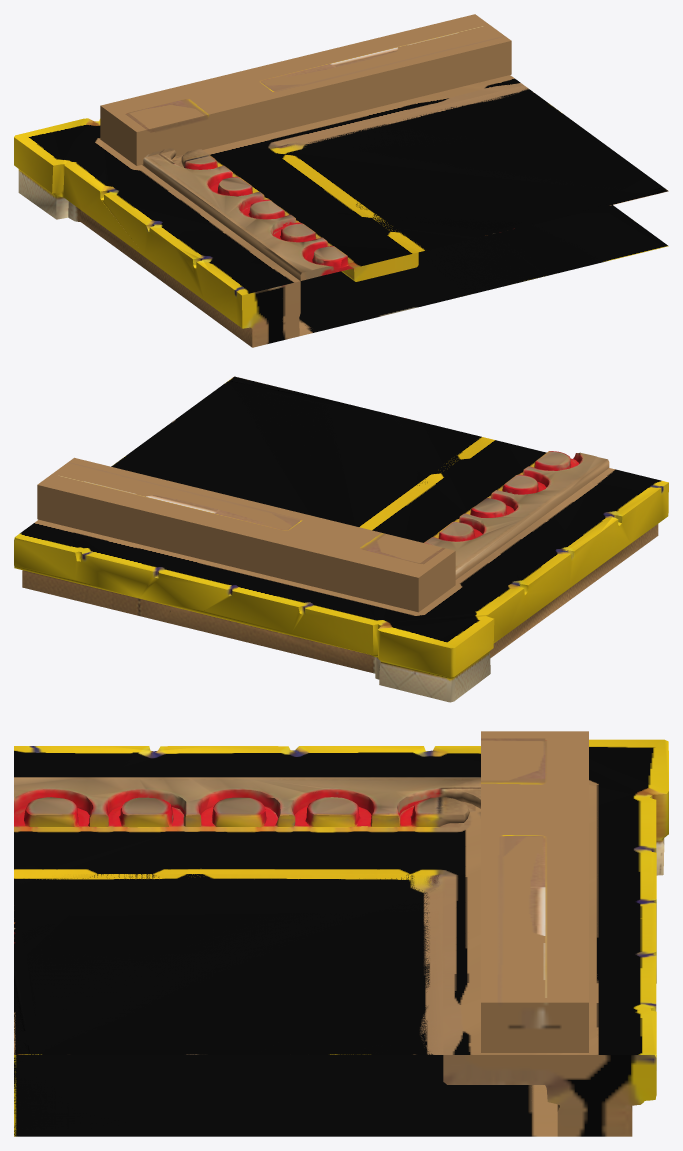
Rendered from 11-roof-back-left.fbx.
The picture shows the model from 3 angles, top to bottom: view 1: azimuth 30°, elevation 25°; view 2: azimuth 150°, elevation 25°; view 3: azimuth 270°, elevation 25°; orthographic projection. The views are drawn at different scales.
Visible parts, largest first — view 1: roof-back-left; view 2: roof-back-left; view 3: roof-back-left.
Boxes of the visible parts, x1,y1,x2,y2 form: roof-back-left: (14,14,668,347); roof-back-left: (14,376,668,702); roof-back-left: (14,731,668,1136).
Bounding box in the file's own units: 5117 × 1012 × 4489.
1 material, 1 textured.
